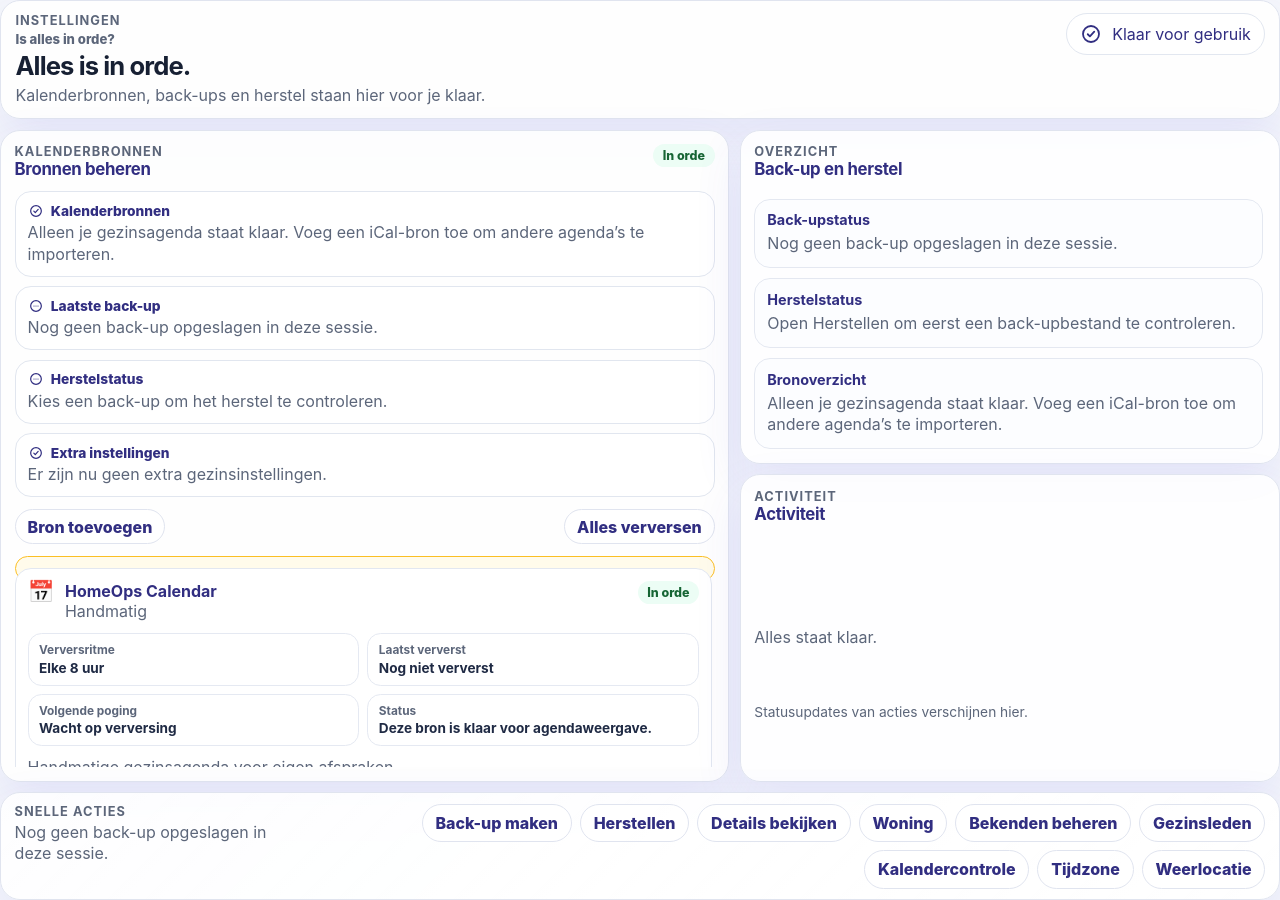
SettingsDashboard › creates a new iCal feed source from the add dialog
This screenshot has width=1280, height=900.
Click the button "Bron toevoegen".
click(90, 527)  # box [15, 509, 165, 544]
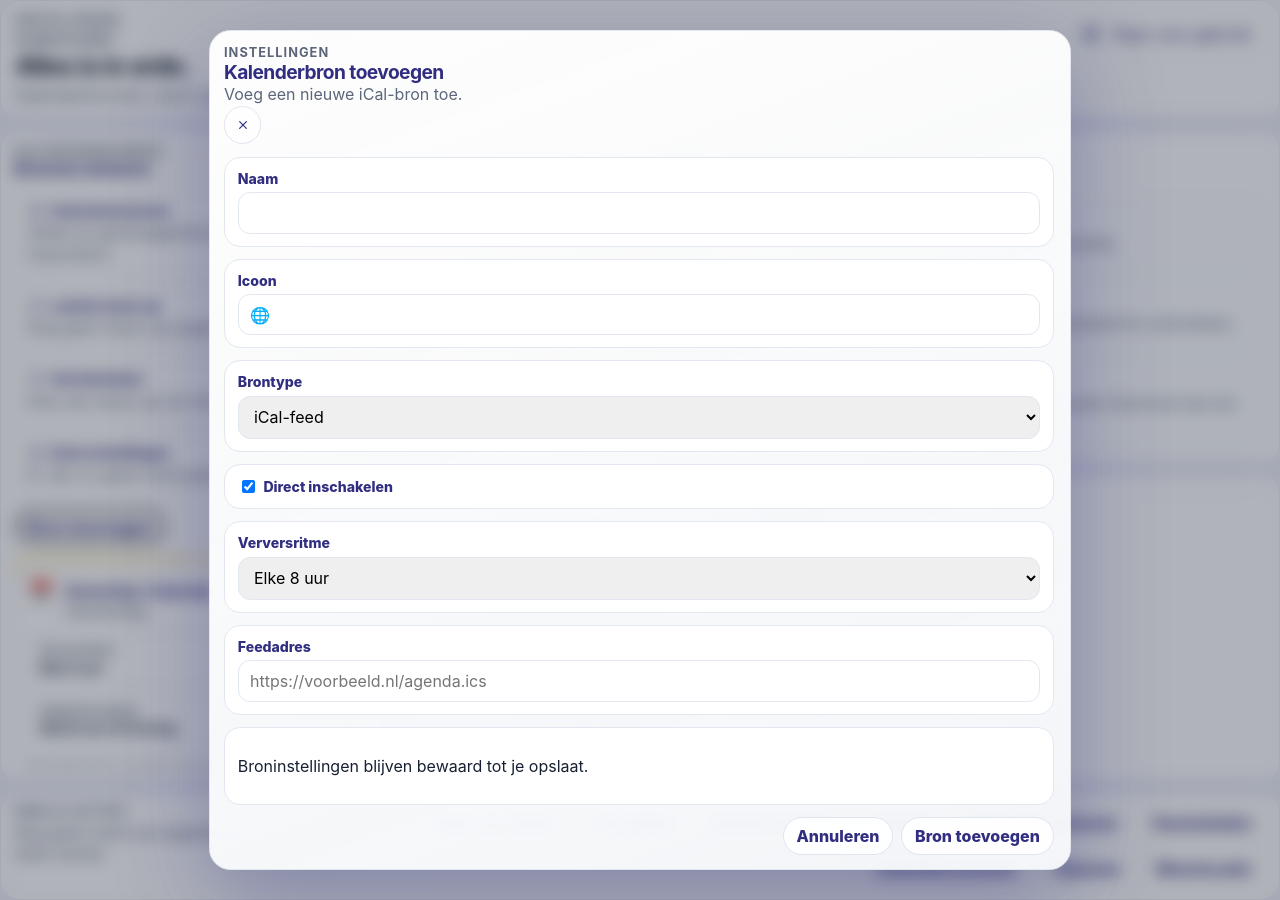
Type "Sportclub" into the field labelled "Naam".
click(639, 213); type("Sportclub")  # box [238, 192, 1040, 234]
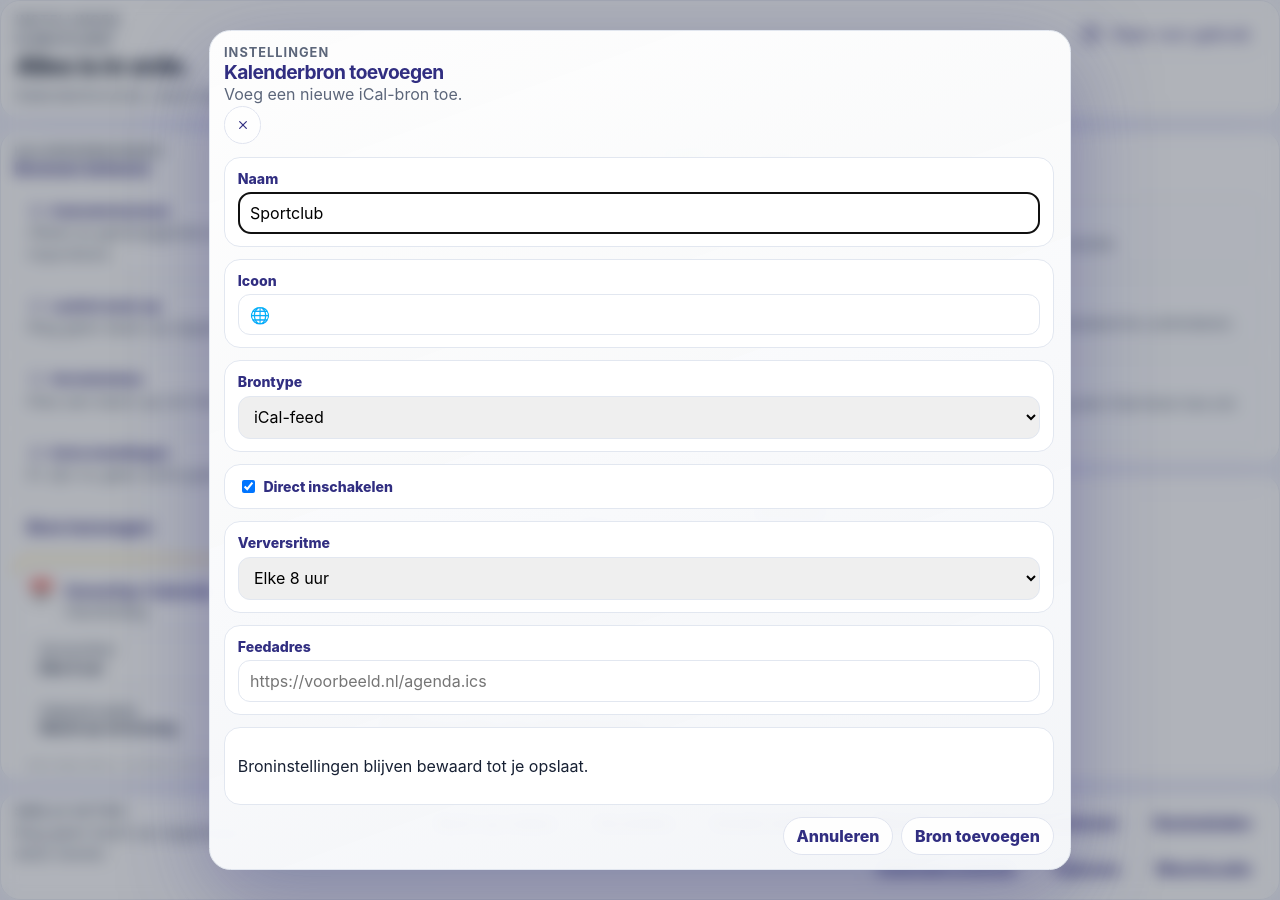
Replace the text in the field labelled "Icoon" with "⚽" at (639, 315), box [238, 294, 1040, 335]
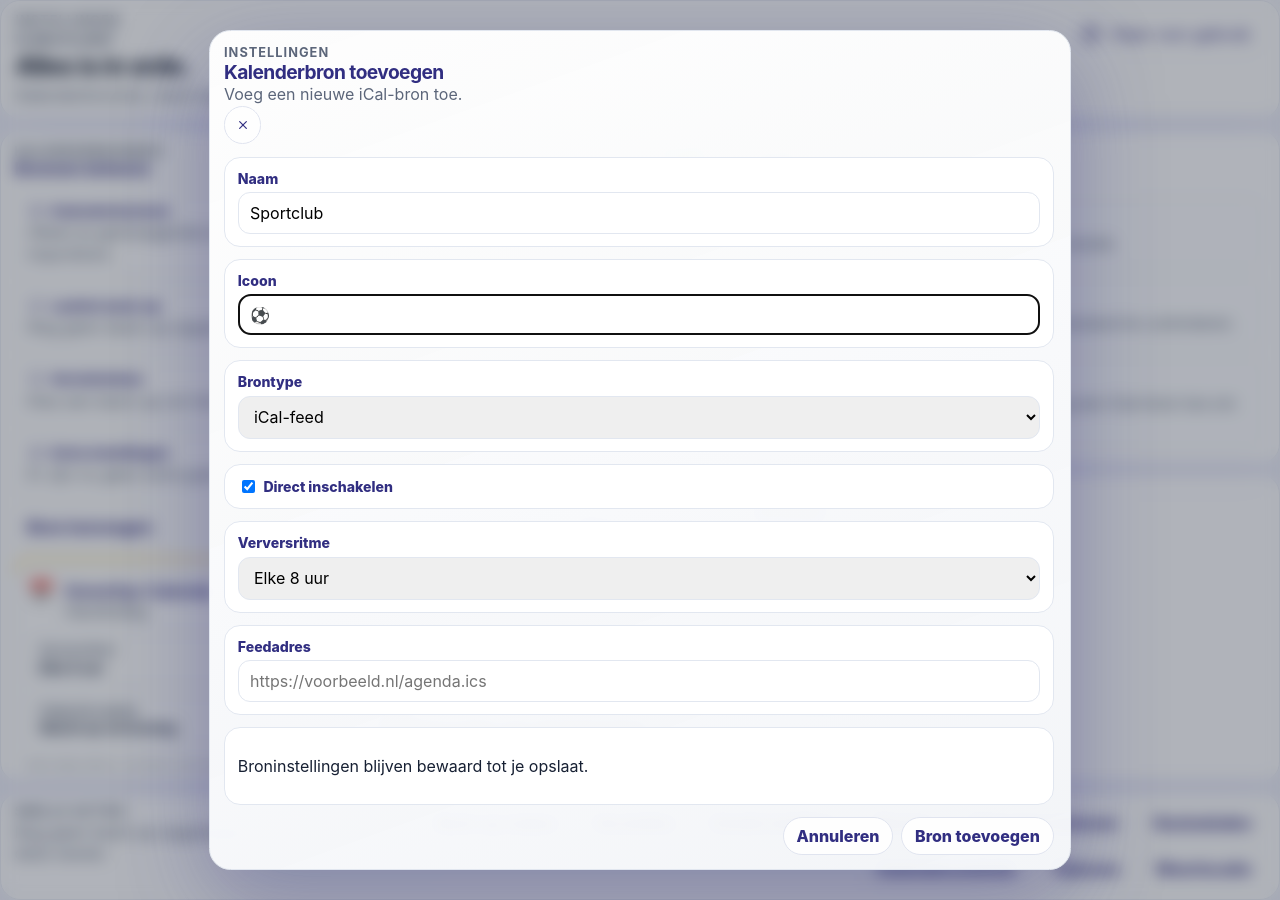
Select "Dagelijks" in the dropdown labelled "Verversritme" at (639, 578), box [238, 557, 1040, 600]
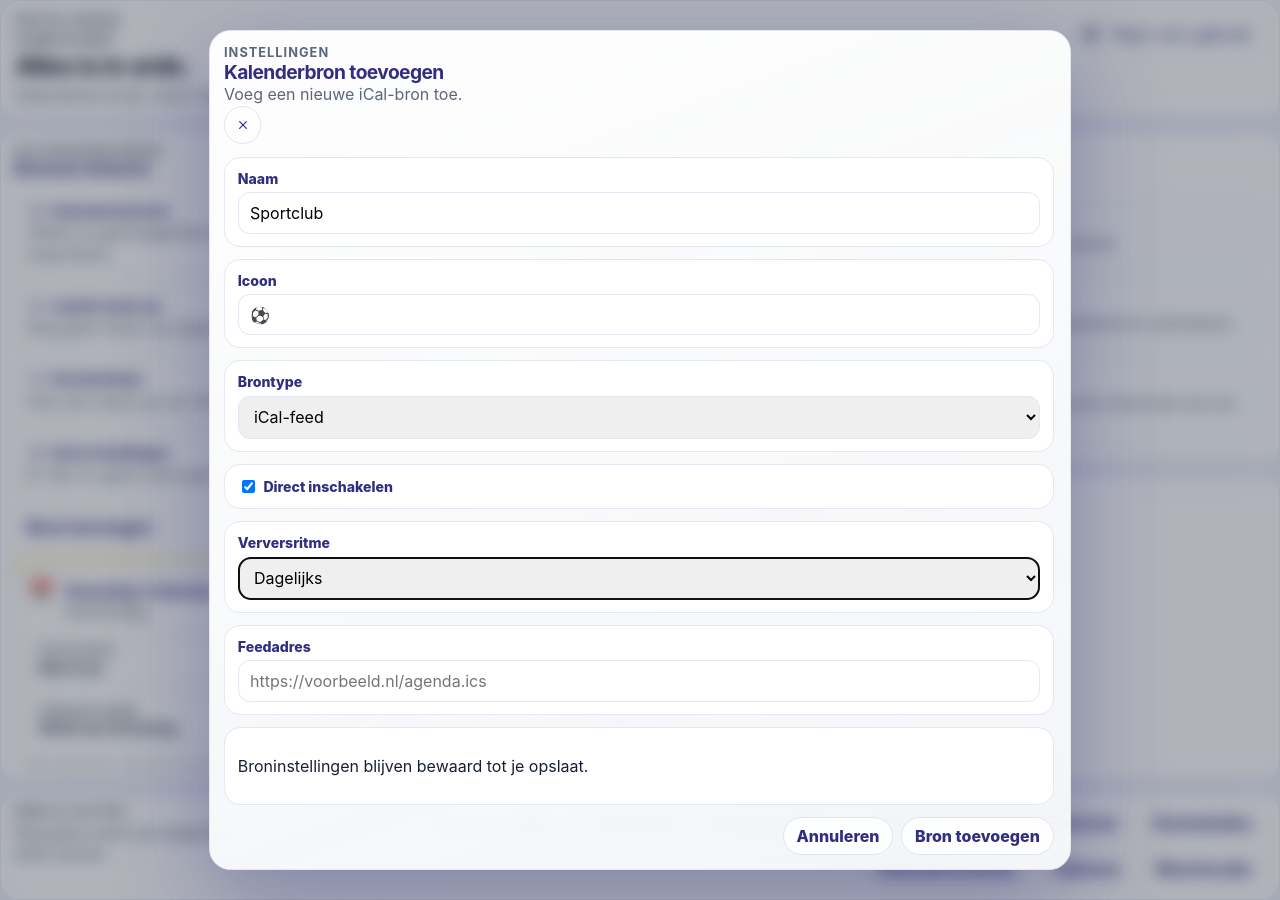
Type "https://example.test/sports.ics" into the field labelled "Feedadres".
click(639, 681); type("https://example.test/sports.ics")  # box [238, 660, 1040, 702]
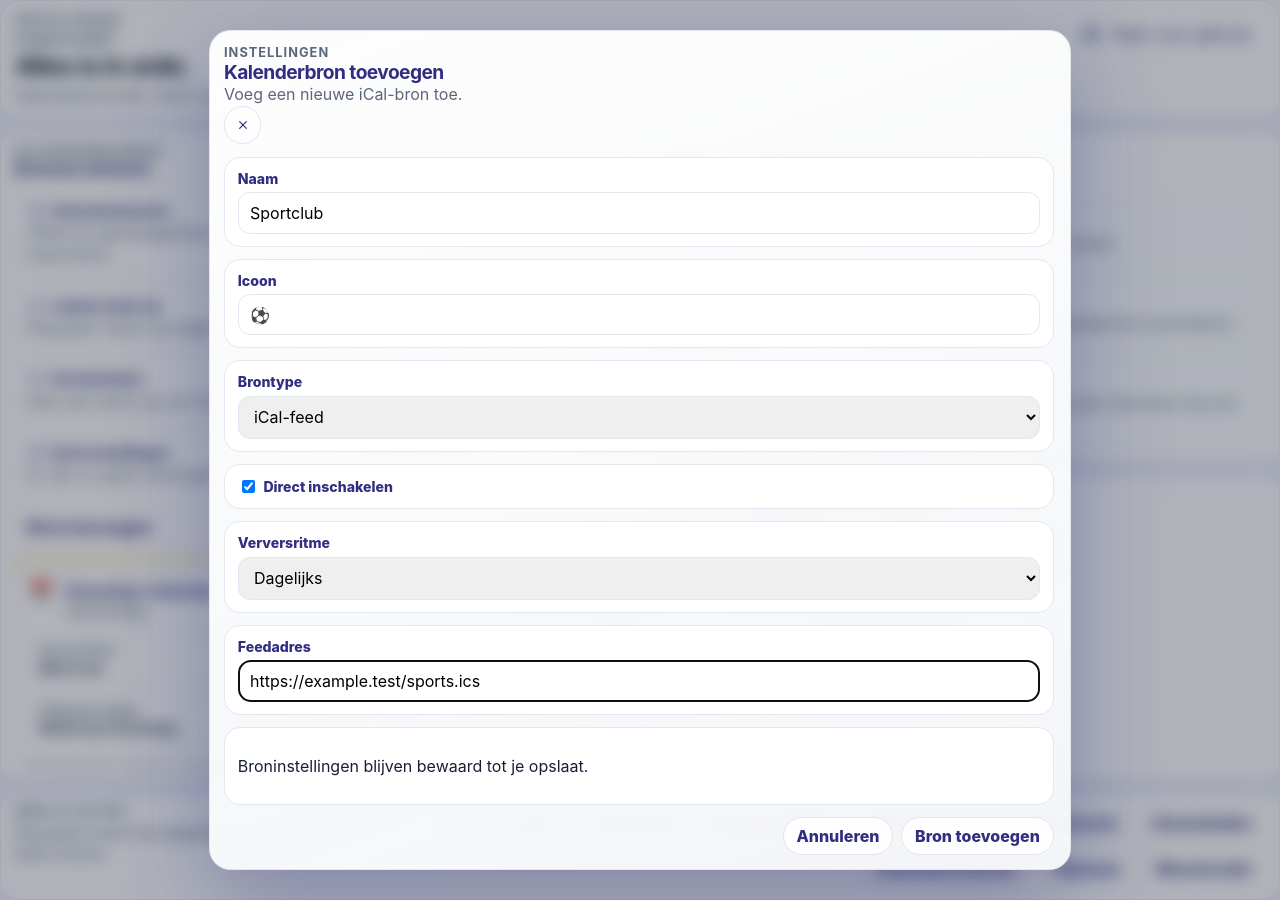
Click the button "Bron toevoegen".
click(978, 836)  # box [901, 817, 1054, 855]
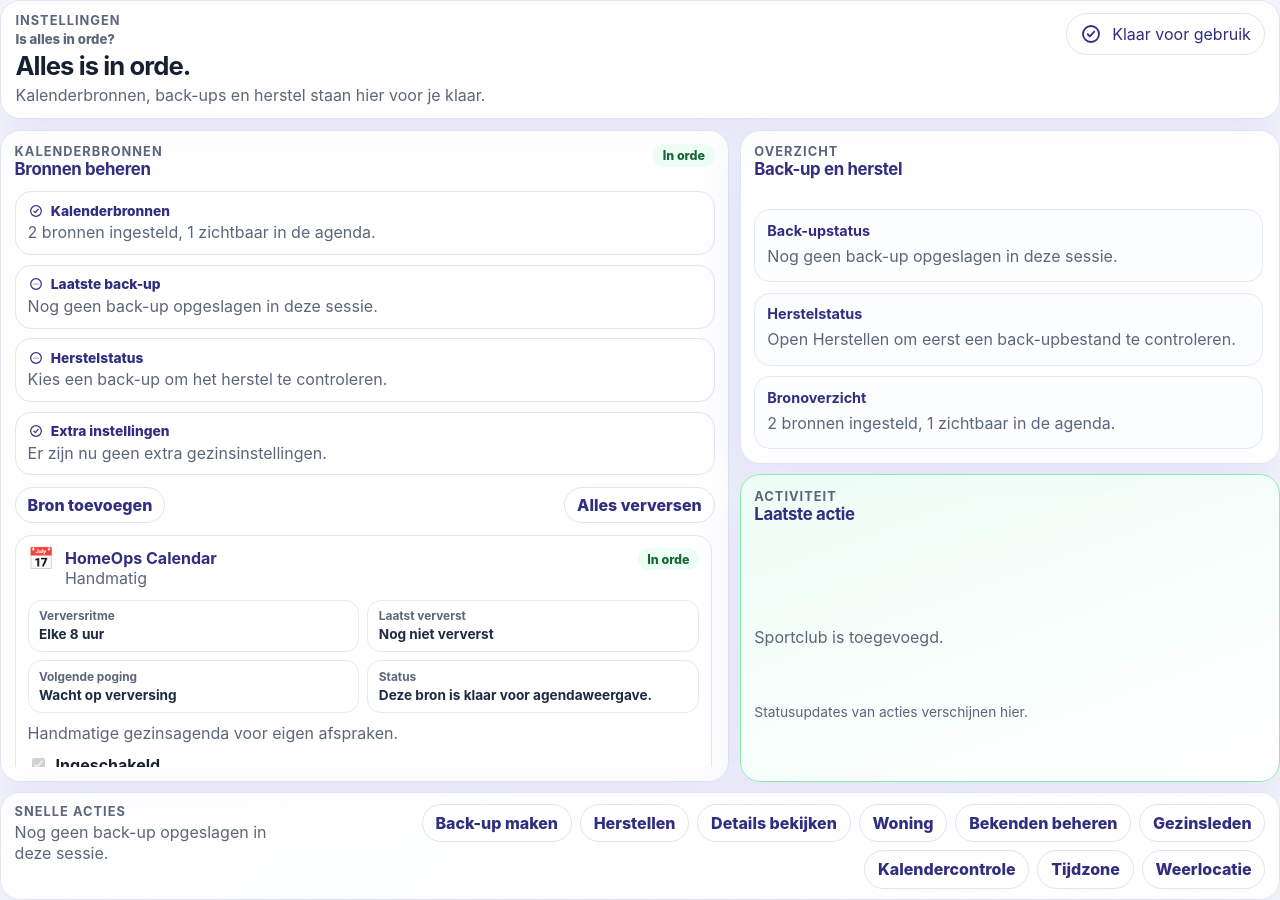
Now the text "Sportclub is toegevoegd." is shown, box [754, 627, 944, 647]
